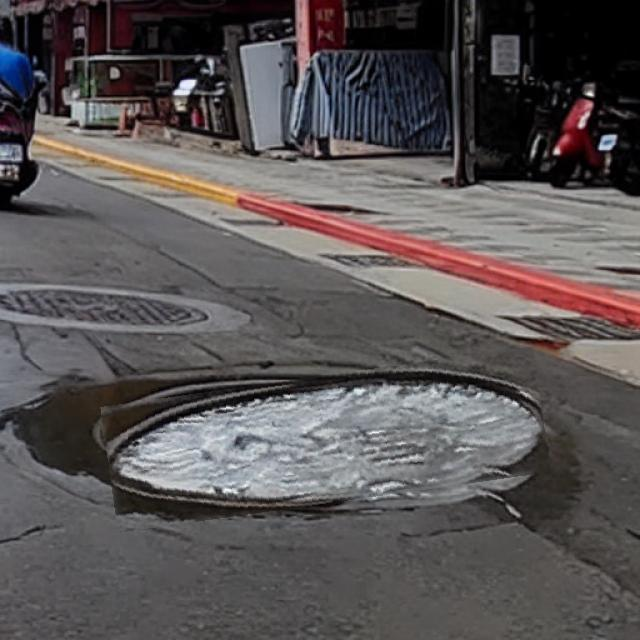puddle: (105, 362, 548, 519)
